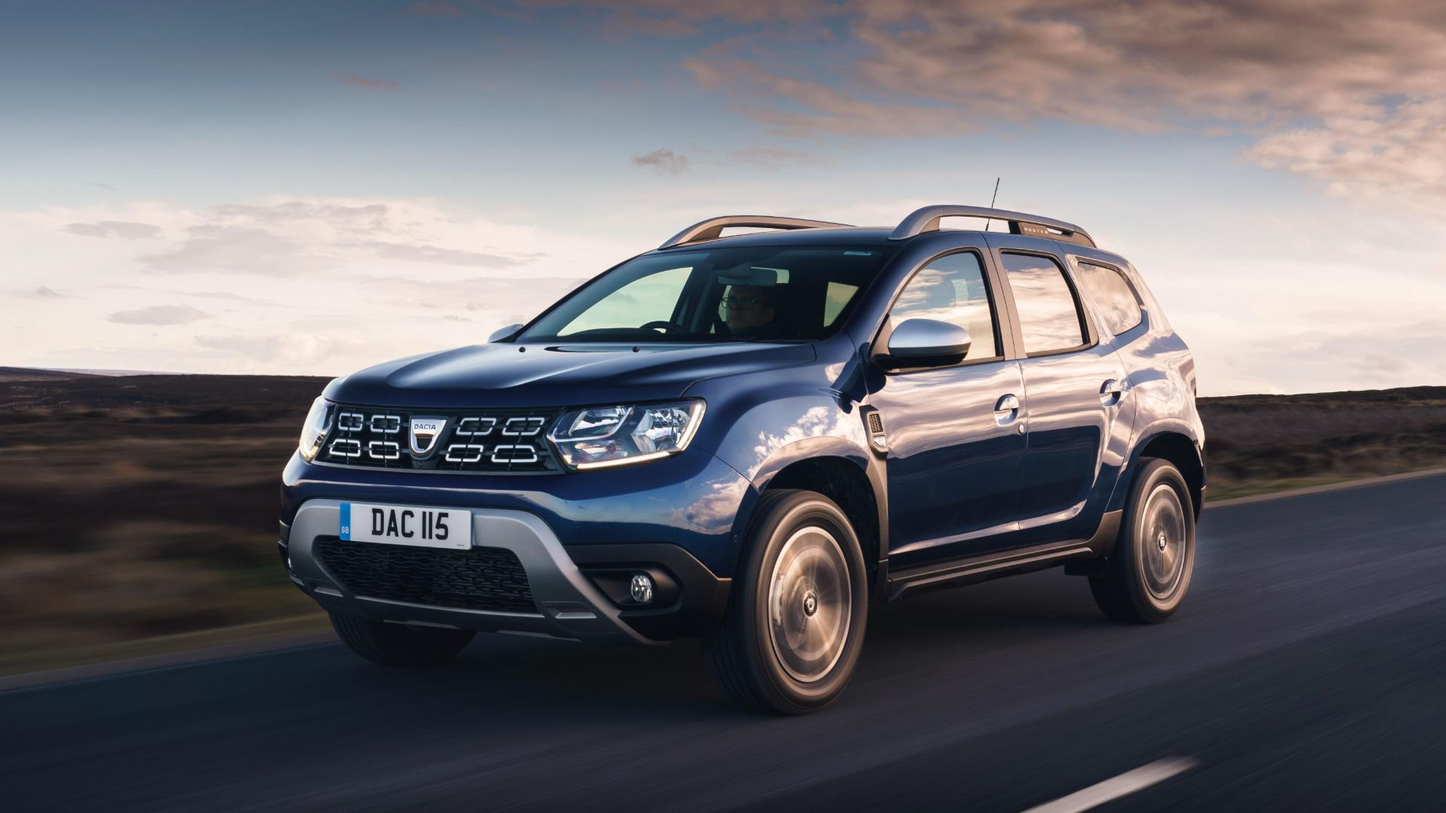other: (275, 193, 1205, 726)
